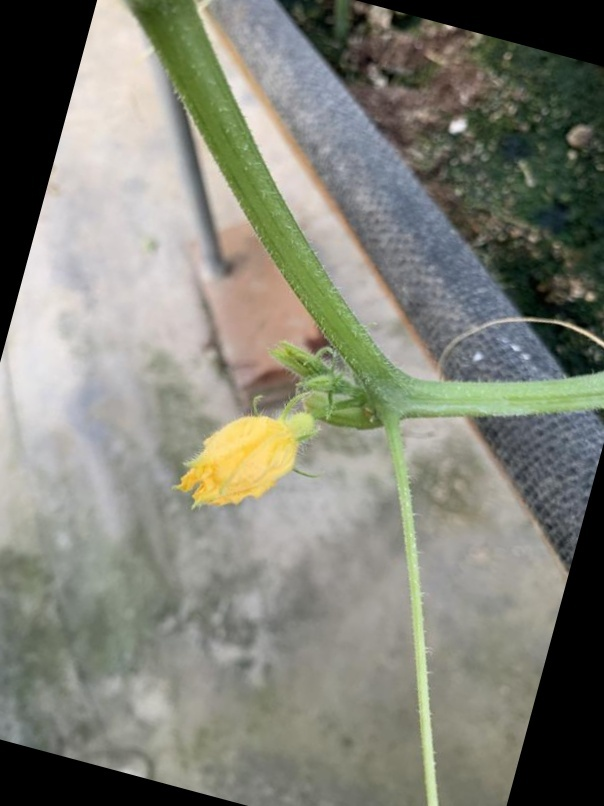bud: (158, 395, 327, 525)
